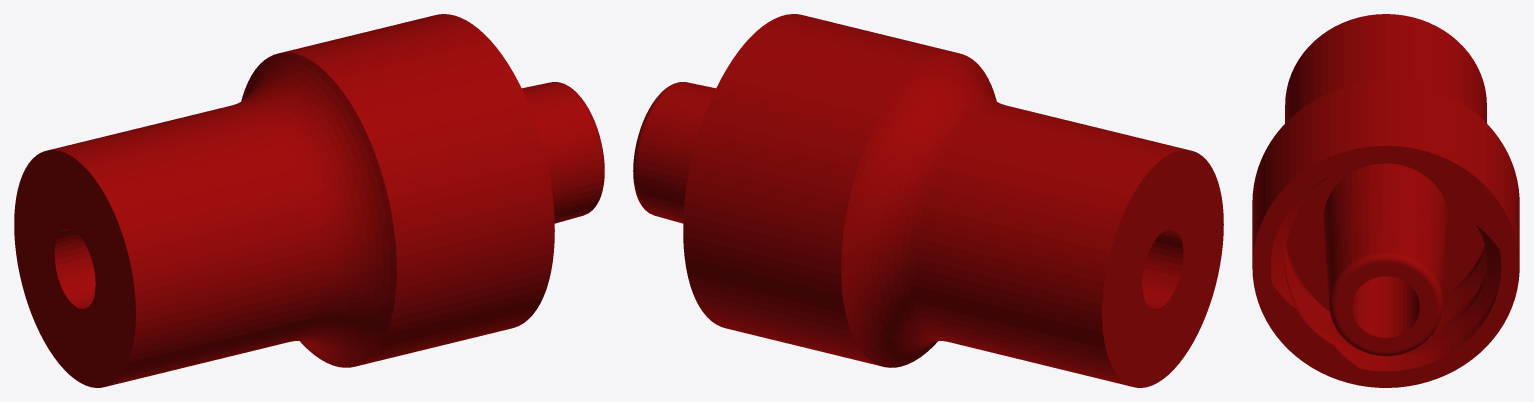
File: 3.2.1.3 Luer Lock.glb
3 views of the same model, side by side, from view 1: azimuth 30°, elevation 25°; view 2: azimuth 150°, elevation 25°; view 3: azimuth 270°, elevation 25° (orthographic). The views are drawn at different scales.
Parts seen in each view (by area): view 1: empty_2; view 2: empty_2; view 3: empty_2.
Boxes of the visible parts, x1=… form: empty_2: x1=14, y1=14, x2=604, y2=387; empty_2: x1=633, y1=14, x2=1223, y2=387; empty_2: x1=1252, y1=14, x2=1519, y2=387.
Bounding box in the file's own units: 16.55 × 9.27 × 9.27.
